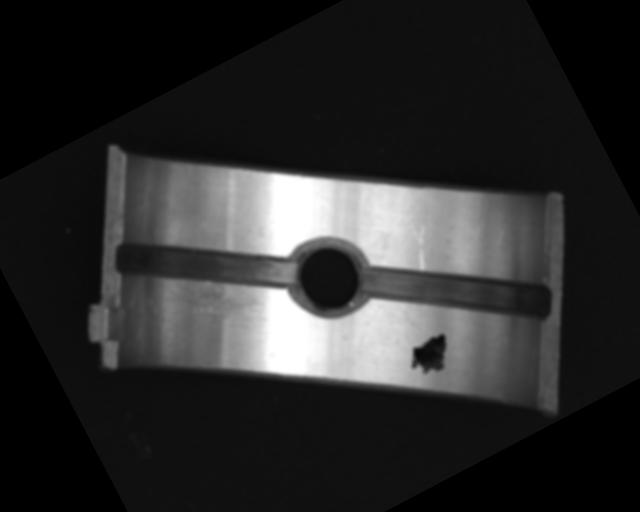blot: (402, 331, 458, 382)
gap: (358, 199, 557, 383), (105, 177, 299, 350)
hole: (275, 222, 381, 331)
nick: (399, 218, 444, 274)
scratch: (157, 249, 265, 347)
